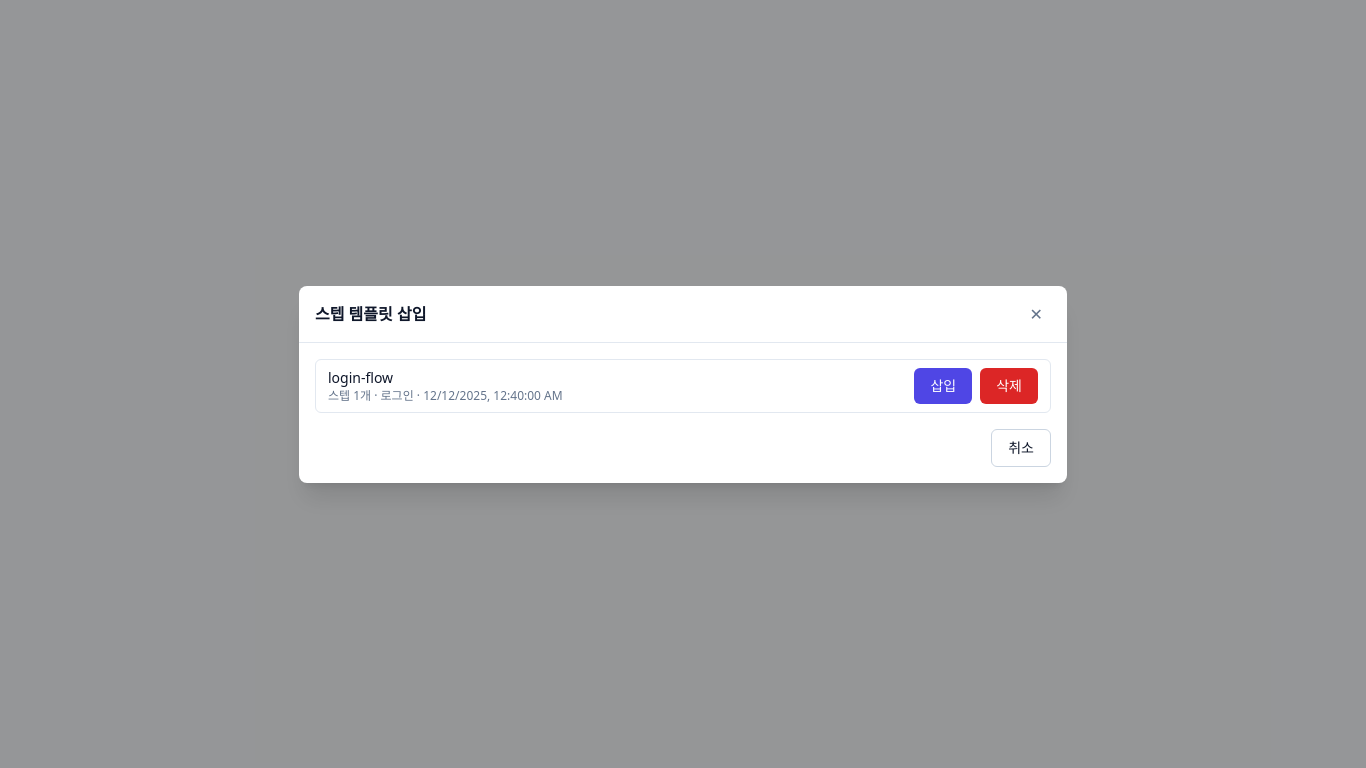
Test: InsertTemplateModal › 호환 불가 템플릿(2단 중첩)은 에러 표시 + 미삽입
The image size is (1366, 768).
Click the button "삽입": (943, 386) 914,368 -> 972,404
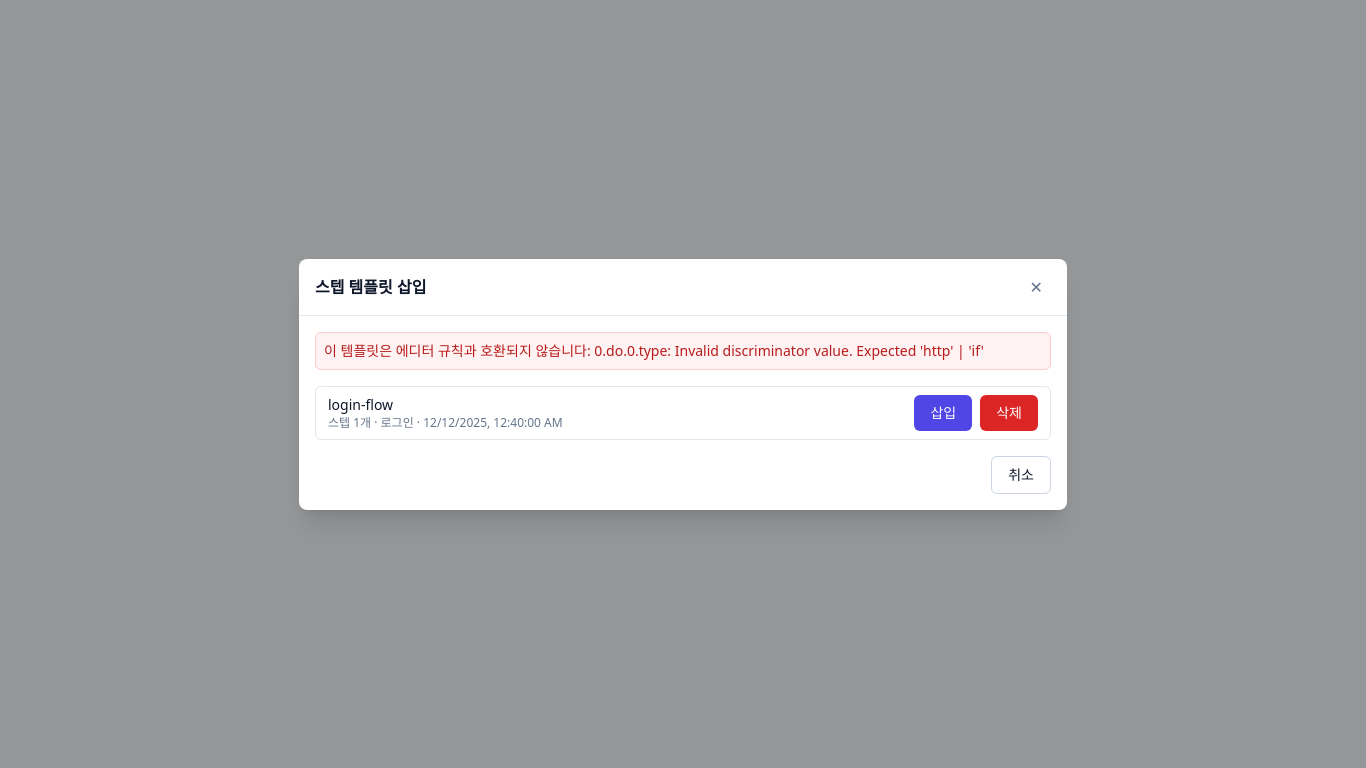
Expected: the text "호환되지 않습니다" is shown, 324,340 -> 984,360
